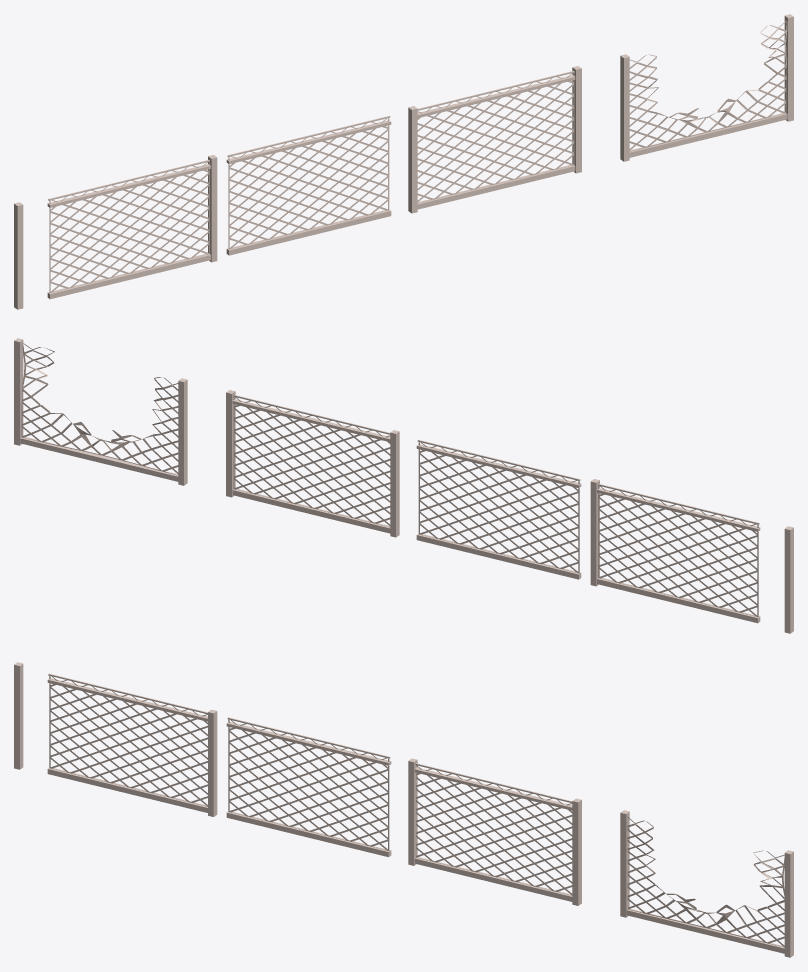
File: Fence.fbx
The picture shows the model from 3 angles, top to bottom: view 1: azimuth 30°, elevation 25°; view 2: azimuth 150°, elevation 25°; view 3: azimuth 330°, elevation 25°; orthographic projection.
Visible parts, largest first — view 1: Cube.004, Cube.001, Cube.002, Cube.005, Cube.003; view 2: Cube.004, Cube.001, Cube.002, Cube.005, Cube.003; view 3: Cube.004, Cube.001, Cube.002, Cube.005, Cube.003.
Part boxes in pixels (x1,y1,x2,y2): Cube.004: [408, 66, 581, 213]; Cube.001: [47, 155, 217, 299]; Cube.002: [226, 116, 391, 255]; Cube.005: [620, 14, 793, 161]; Cube.003: [14, 202, 23, 309]; Cube.004: [226, 390, 399, 537]; Cube.001: [590, 479, 760, 623]; Cube.002: [416, 440, 581, 579]; Cube.005: [14, 338, 187, 485]; Cube.003: [784, 526, 793, 633]; Cube.004: [408, 758, 581, 905]; Cube.001: [47, 673, 217, 816]; Cube.002: [226, 717, 391, 857]; Cube.005: [620, 810, 793, 957]; Cube.003: [14, 662, 23, 769].
Size of the model in its own units: 1037 by 132 by 14.06.
